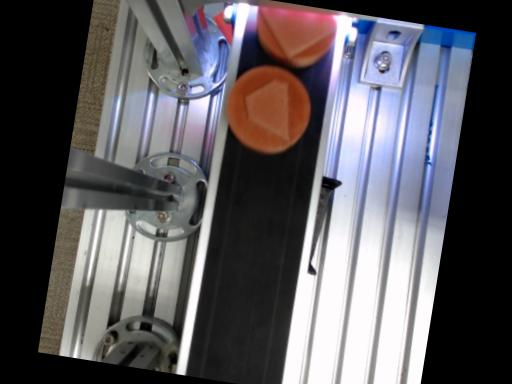Brown_Waper: (225, 65, 309, 152), (256, 7, 335, 67)
